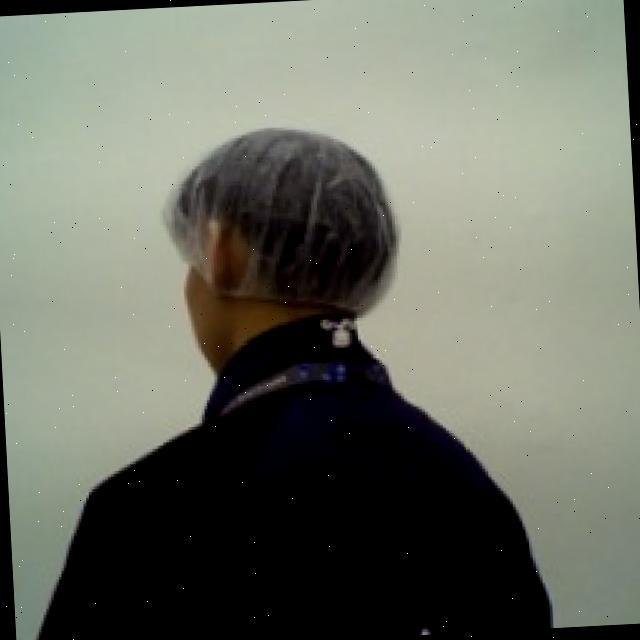gloves: (156, 107, 406, 335)
